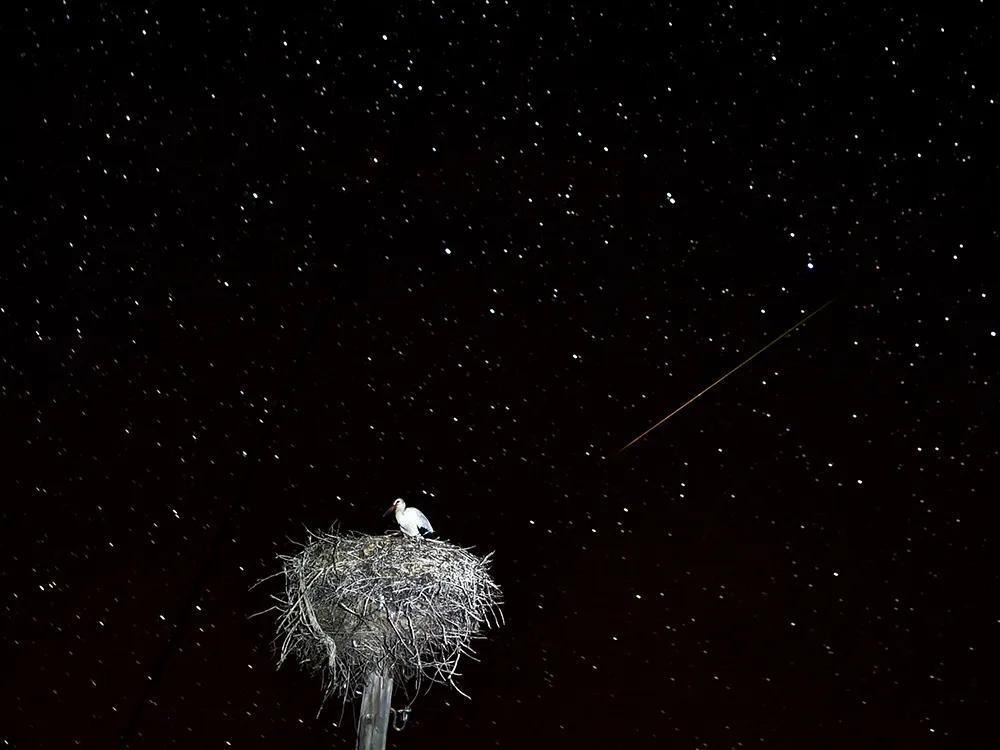meteorite: (615, 329, 830, 457)
